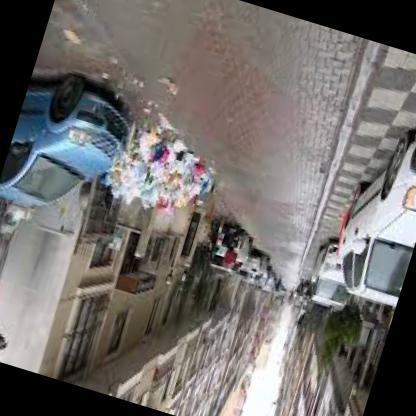Garbage: (100, 111, 230, 230), (148, 92, 188, 141), (122, 150, 156, 201), (184, 166, 218, 214), (174, 149, 208, 185), (158, 64, 183, 99), (156, 190, 180, 208), (164, 157, 180, 184)
